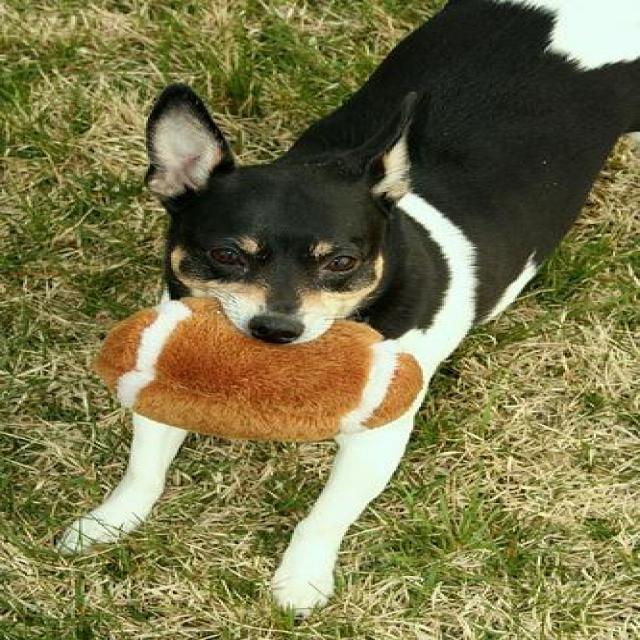toy_terrier: (54, 1, 636, 611)
